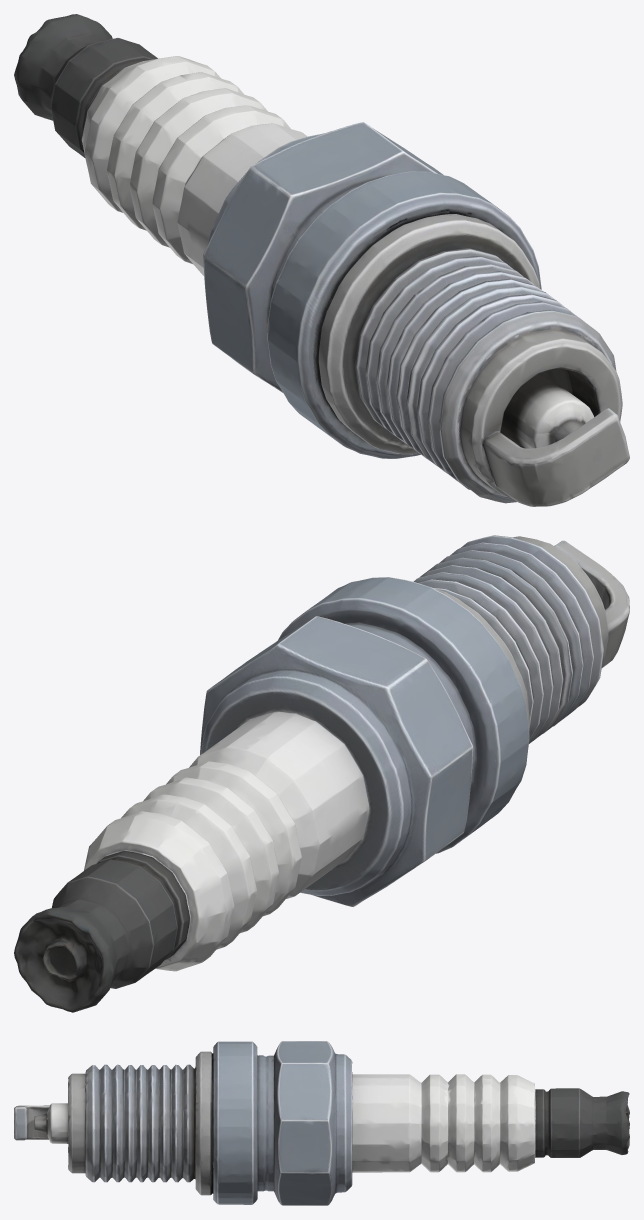
File: spark_plug_1k_real.glb
3 renders of one model, top to bottom at view 1: azimuth 30°, elevation 25°; view 2: azimuth 150°, elevation 25°; view 3: azimuth 270°, elevation 25°, orthographic. The views are drawn at different scales.
Parts seen in each view (by area): view 1: tripo_node_d00cb61f-75f3-4c35-a37c-314857868702; view 2: tripo_node_d00cb61f-75f3-4c35-a37c-314857868702; view 3: tripo_node_d00cb61f-75f3-4c35-a37c-314857868702.
Part boxes in pixels (box(x1,y1,x2,y2)): tripo_node_d00cb61f-75f3-4c35-a37c-314857868702: box(14, 14, 629, 506); tripo_node_d00cb61f-75f3-4c35-a37c-314857868702: box(14, 535, 629, 1012); tripo_node_d00cb61f-75f3-4c35-a37c-314857868702: box(14, 1041, 629, 1205).
Size of the model in its own units: 0.2626 by 0.2649 by 1.
1 material, 1 textured.
